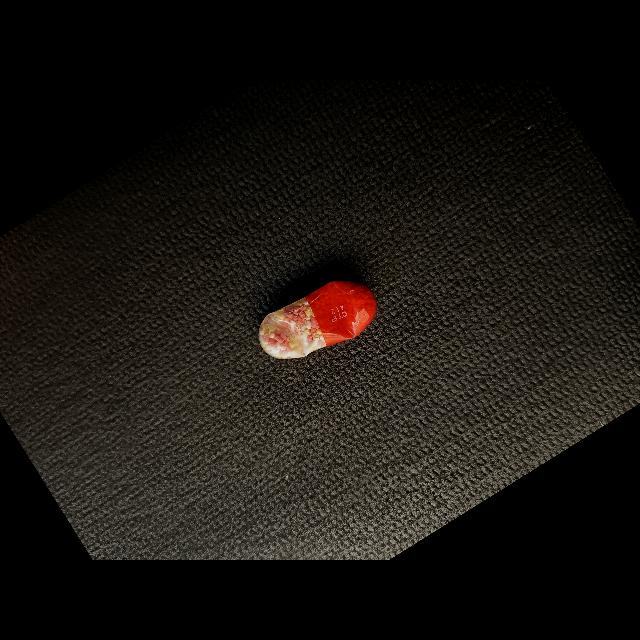Defective Capsule: (258, 281, 377, 359)
